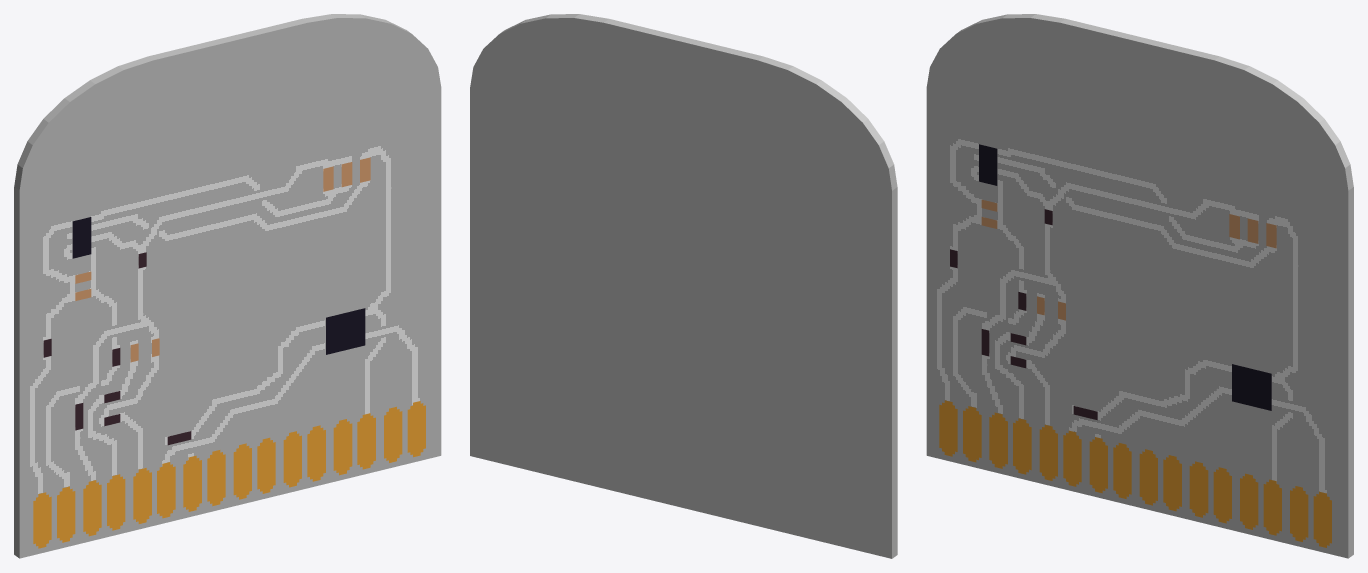
Rendered from ChipRound.glb.
The picture shows the model from 3 angles, left to right: view 1: azimuth 30°, elevation 25°; view 2: azimuth 150°, elevation 25°; view 3: azimuth 330°, elevation 25°; orthographic projection.
Parts seen in each view (by area): view 1: Cube; view 2: Cube; view 3: Cube.
Boxes of the visible parts, x1,y1,x2,y2 form: Cube: [14, 14, 441, 558]; Cube: [470, 14, 897, 558]; Cube: [926, 14, 1353, 558].
Bounding box in the file's own units: 5.19 × 5.47 × 0.1253.
2 materials, 2 textured.
